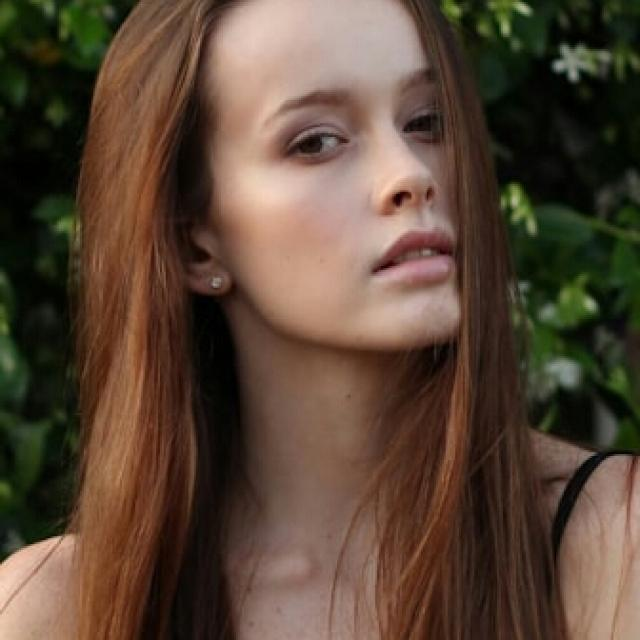front: (180, 39, 504, 333)
